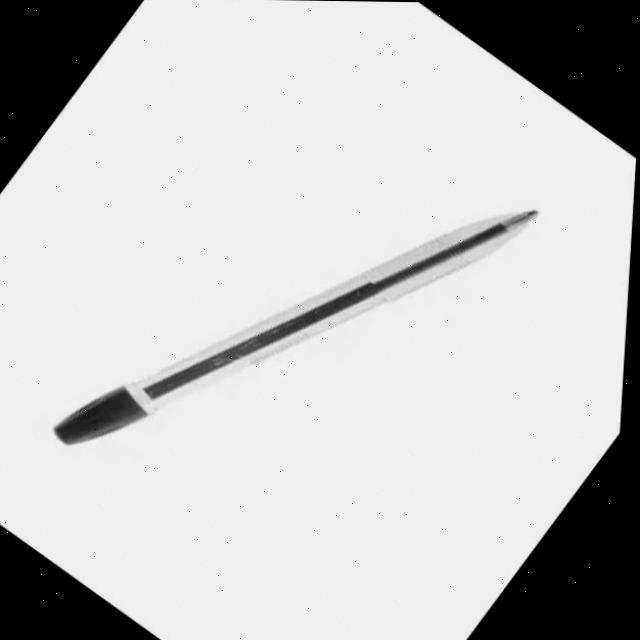pencil: (44, 203, 559, 458)
